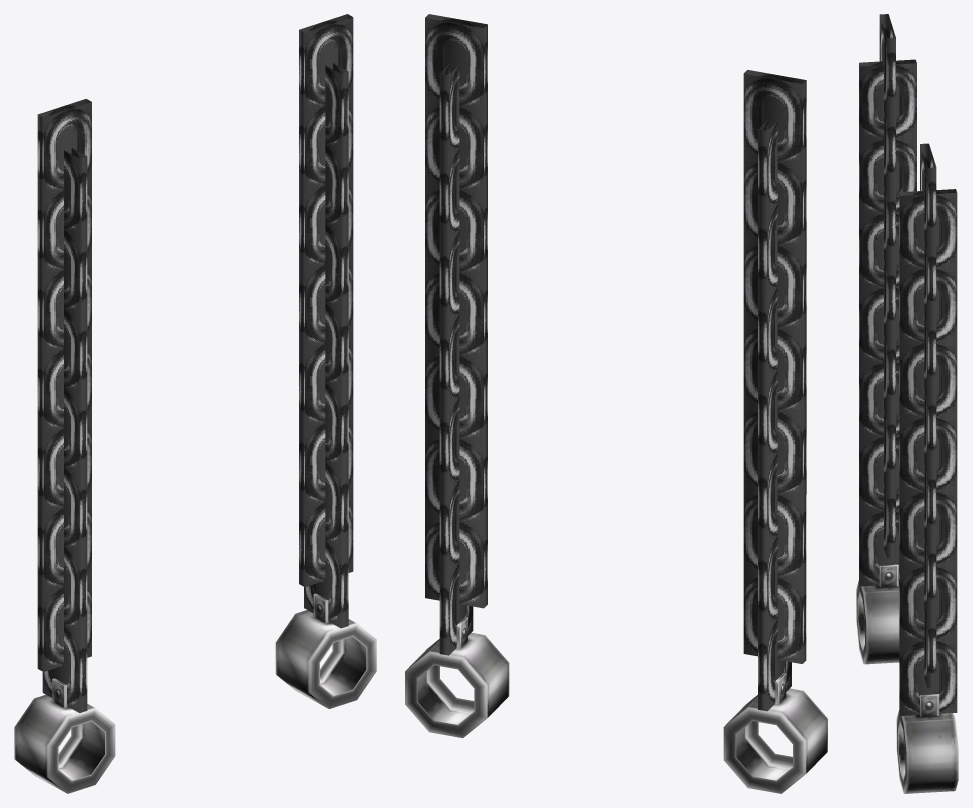
File: SWORDLIGHT20_INST_CHAINCUFFS_LOD1_06.fbx
3 views of the same model, side by side, from view 1: azimuth 30°, elevation 25°; view 2: azimuth 150°, elevation 25°; view 3: azimuth 270°, elevation 25° (orthographic). The views are drawn at different scales.
Visible parts, largest first — view 1: SWORDLIGHT20_INST_CHAINCUFFS_LOD1_06; view 2: SWORDLIGHT20_INST_CHAINCUFFS_LOD1_06; view 3: SWORDLIGHT20_INST_CHAINCUFFS_LOD1_06.
Part boxes in pixels (x1=…): SWORDLIGHT20_INST_CHAINCUFFS_LOD1_06: x1=14, y1=14, x2=376, y2=793; SWORDLIGHT20_INST_CHAINCUFFS_LOD1_06: x1=405, y1=14, x2=827, y2=793; SWORDLIGHT20_INST_CHAINCUFFS_LOD1_06: x1=856, y1=14, x2=958, y2=793.
Size of the model in its own units: 6831 by 12114 by 1787.
Materials: 2 (2 with a texture image).
